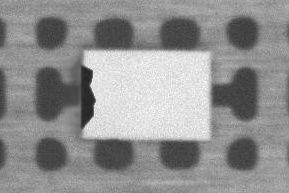DIE_BROKEN: (78, 64, 97, 130)
